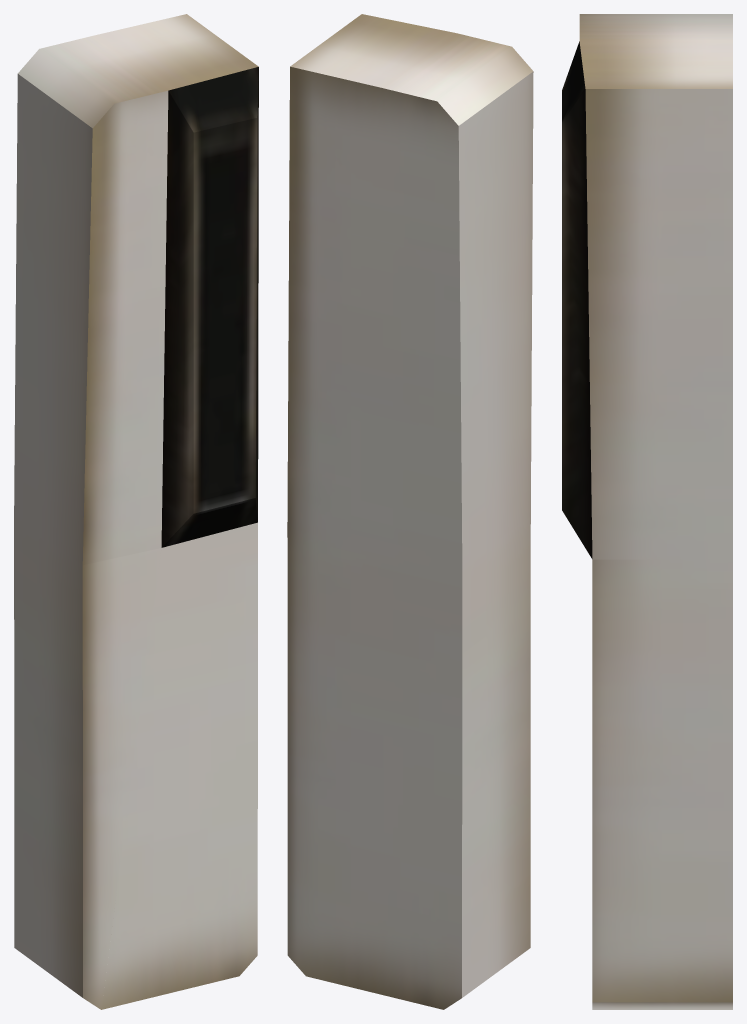
File: PianoKey.fbx
The picture shows the model from 3 angles, left to right: view 1: azimuth 30°, elevation 25°; view 2: azimuth 150°, elevation 25°; view 3: azimuth 270°, elevation 25°; orthographic projection. The views are drawn at different scales.
Visible parts, largest first — view 1: Piano_Key; view 2: Piano_Key; view 3: Piano_Key.
Part boxes in pixels (box(x1,y1,x2,y2)): Piano_Key: box(14, 14, 258, 1009); Piano_Key: box(287, 14, 533, 1009); Piano_Key: box(562, 14, 732, 1009).
Bounding box in the file's own units: 23.5 × 116 × 19.39.
